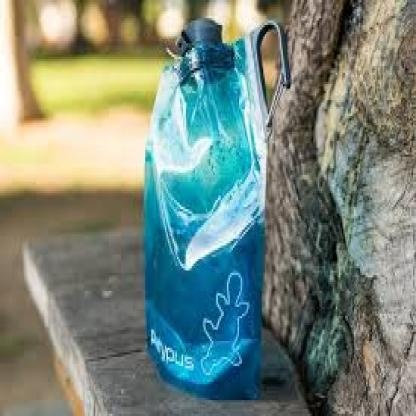trash: (144, 18, 264, 398)
